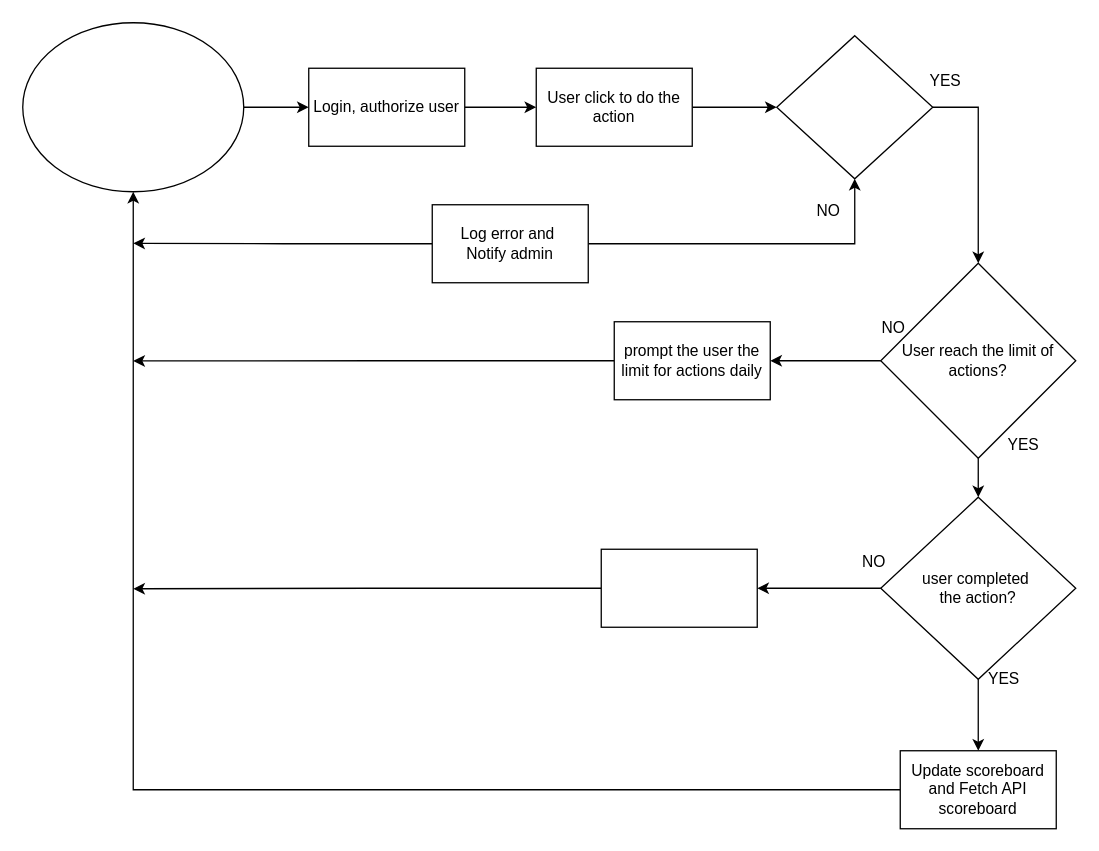
The diagram is 1099 pixels wide and 851 high, and some of its shapes have lost their labels. The box of each missing label's shape, as (x1, y1, x2, y2) in pixels:
Home page with do action button or whatever and top 10 scoreboard: (21, 21, 244, 192)
prompt the user to try again: (600, 548, 757, 627)
user is authorized?: (775, 34, 933, 179)
